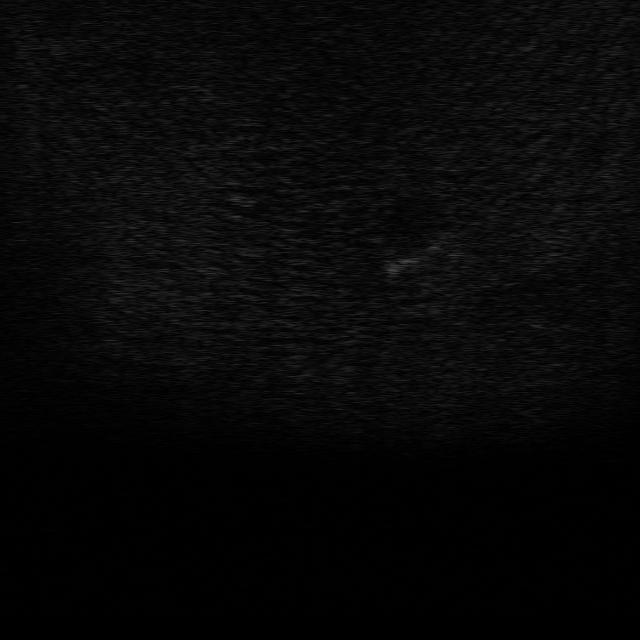plane: (375, 235, 445, 277)
